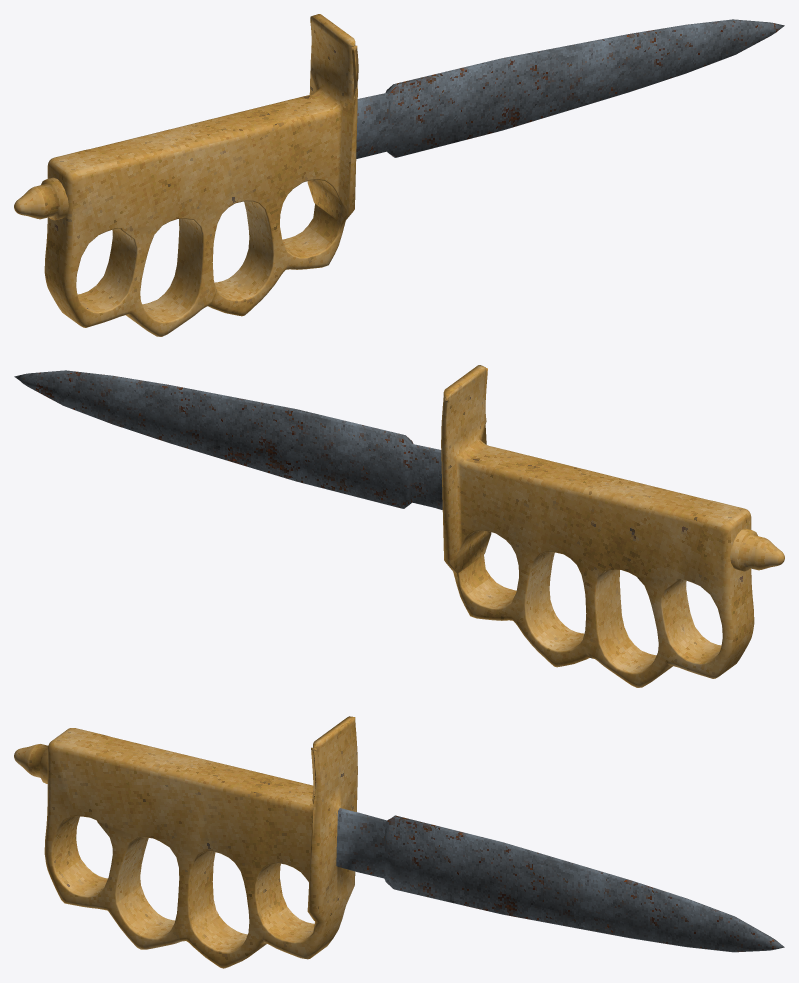
File: trench knife.glb
3 views of the same model, one above another, from view 1: azimuth 30°, elevation 25°; view 2: azimuth 150°, elevation 25°; view 3: azimuth 330°, elevation 25° (orthographic).
Parts seen in each view (by area): view 1: Knife; view 2: Knife; view 3: Knife.
Boxes of the visible parts, bbox=[...] form: Knife: bbox=[14, 14, 784, 336]; Knife: bbox=[14, 365, 784, 687]; Knife: bbox=[14, 716, 784, 968].
Bounding box in the file's own units: 0.882 × 0.2829 × 0.0806.
2 materials, 2 textured.
